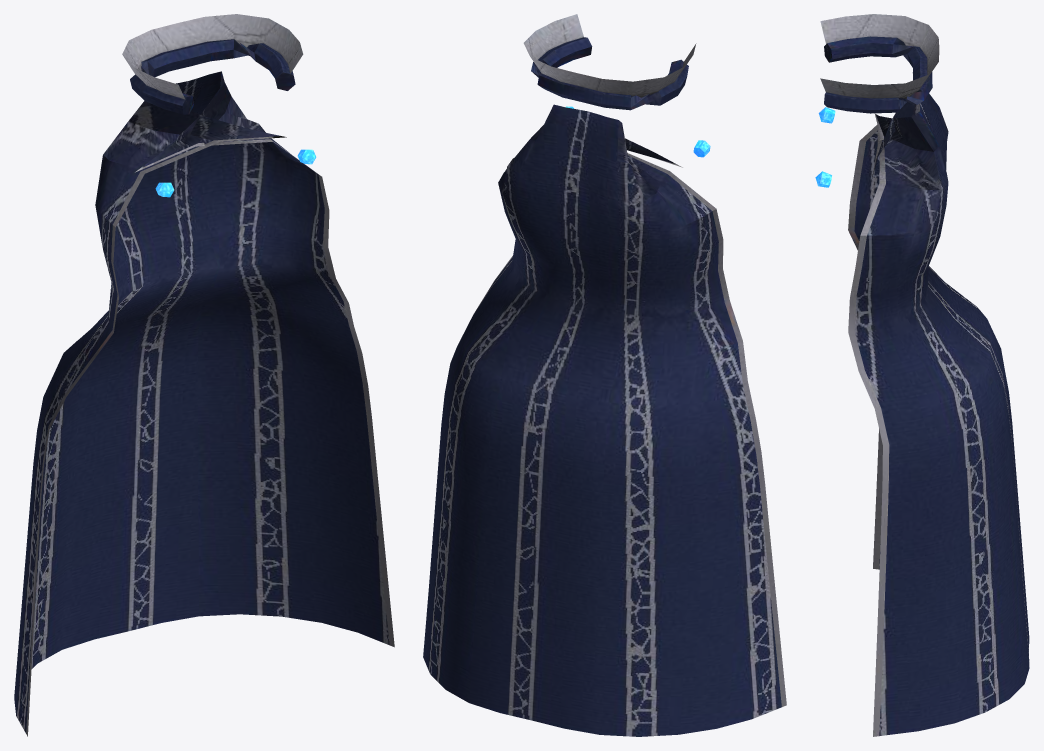
File: Capa_do_Guardião_nivel50.glb
3 renders of one model, left to right at view 1: azimuth 30°, elevation 25°; view 2: azimuth 150°, elevation 25°; view 3: azimuth 270°, elevation 25°, orthographic. The views are drawn at different scales.
Visible parts, largest first — view 1: capa_do_guardiao_nivel50; view 2: capa_do_guardiao_nivel50; view 3: capa_do_guardiao_nivel50.
Part boxes in pixels (x1,y1,x2,y2): capa_do_guardiao_nivel50: (14, 14, 394, 736); capa_do_guardiao_nivel50: (423, 14, 786, 736); capa_do_guardiao_nivel50: (815, 14, 1029, 736).
Bounding box in the file's own units: 0.7078 × 1.18 × 0.3806.
Materials: 1 (1 with a texture image).
